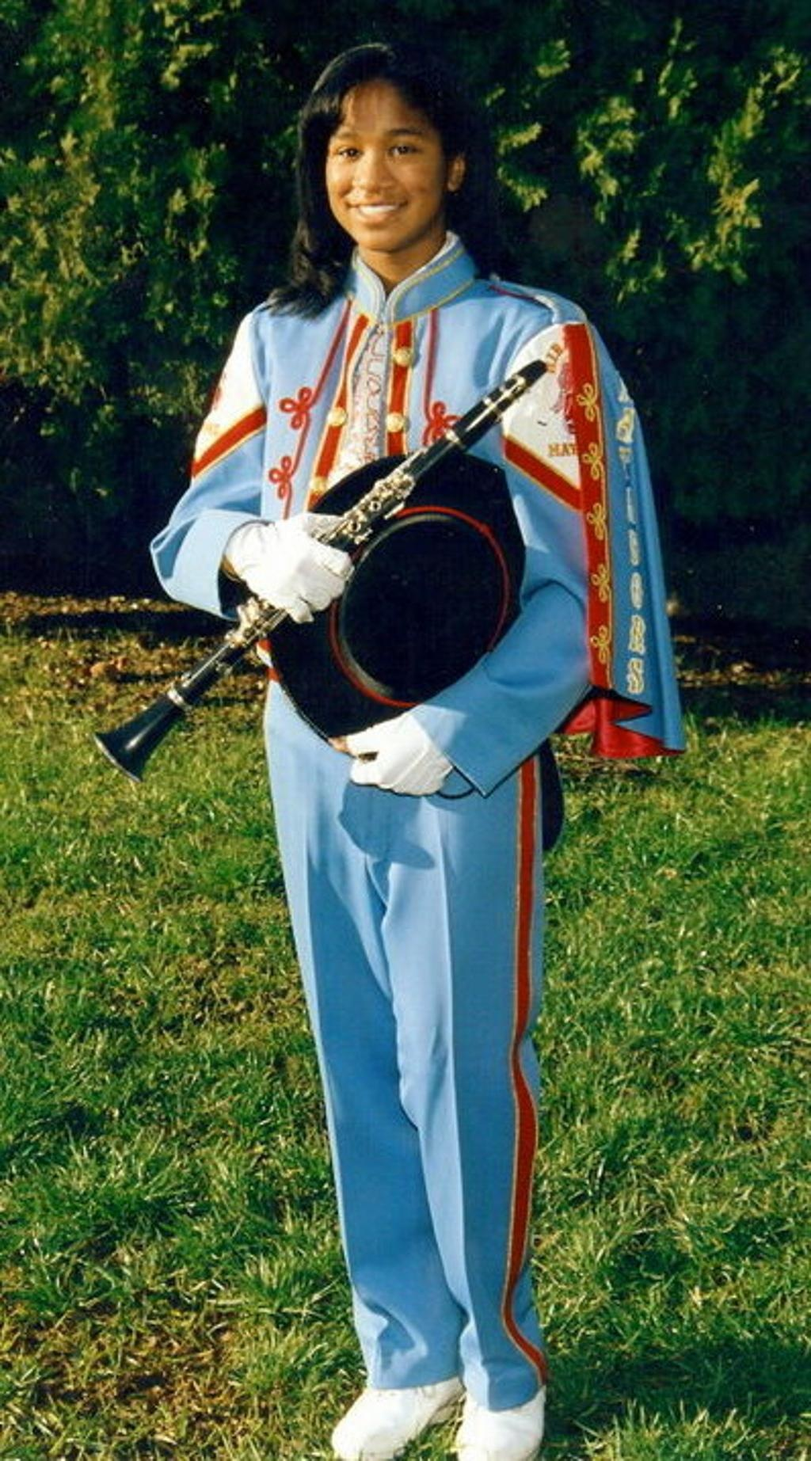human_face: (329, 89, 446, 245)
